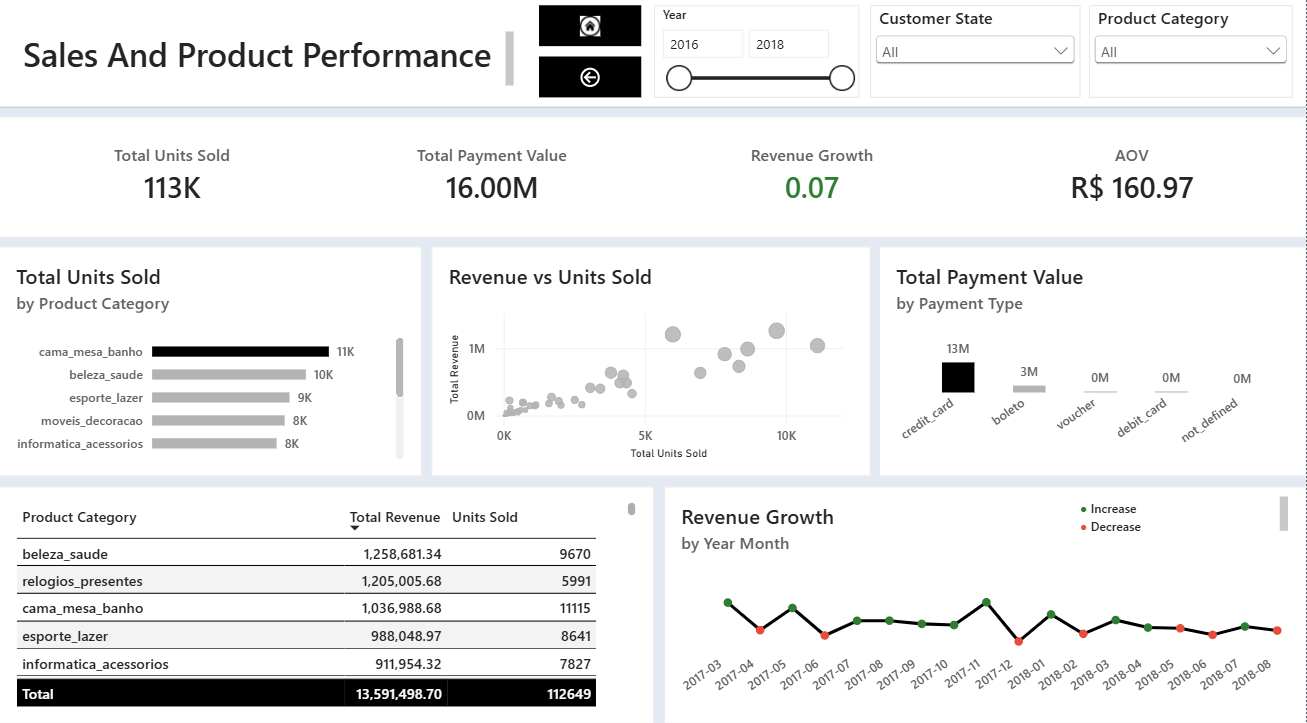

What the dashboard file says about the page in this screenshot:
{"tool":"powerbi","page":{"name":"Page 2","canvas":[1280,720],"ordinal":1},"visuals":[{"type":"shape","box":[0,0,1280.3,106.4],"z":0},{"type":"cardVisual","fields":{"Data":["KPIS.Total Units Sold","KPIS.Total Payment Value","KPIS.Revenue Growth","Metrics.Average Order Value"]},"box":[0,114.9,1280.3,118.6],"z":1000},{"type":"lineChart","fields":{"Category":["DimDate.Year Month.Variation.Hiérarchie de dates.Année"],"Y":["KPIS.Revenue Growth"]},"box":[650.5,476.9,629.8,232.3],"z":2000},{"type":"clusteredBarChart","title":"Total Units Sold ","fields":{"Category":["DimProduct.product_category_name"],"Y":["KPIS.Total Units Sold"]},"box":[0,242.1,413.3,225],"z":3000},{"type":"columnChart","title":"Total Payment Value","fields":{"Y":["KPIS.Total Payment Value"],"Category":["FactOrders.payment_type"]},"box":[860.9,242.1,419.4,225],"z":4000},{"type":"scatterChart","title":"Revenue vs Units Sold","fields":{"Y":["KPIS.Total Revenue"],"X":["KPIS.Total Units Sold"],"Size":["KPIS.Total Revenue"],"Series":["DimProduct.product_category_name"],"Category":["DimProduct.product_category_name"]},"box":[423.1,242.1,429.2,225],"z":5000},{"type":"slicer","fields":{"Values":["DimDate.Year"]},"box":[640.8,6.1,200.5,90.5],"z":6000},{"type":"slicer","fields":{"Values":["DimCustomer.customer_state"]},"box":[852.3,6.1,205.4,90.5],"z":7000},{"type":"slicer","title":"Category  Name","fields":{"Values":["DimProduct.product_category_name"]},"box":[1066.3,6.1,199.3,90.5],"z":8000},{"type":"textbox","box":[14.7,31.8,489.1,64.8],"z":9000},{"type":"tableEx","fields":{"Values":["DimProduct.product_category_name","KPIS.Total Revenue","KPIS.Total Units Sold"]},"box":[0,476.9,640.8,232.3],"z":10000},{"type":"textbox","box":[1057.2,487,203.3,43.6],"z":11000},{"type":"actionButton","box":[528.3,56.3,100.3,40.4],"z":12000},{"type":"actionButton","box":[528.3,6.1,100,40],"z":13000}]}

Visuals, with their boxes in screenshot pixels (x1, y1, x2, y2), scaled from the page's 1280x720 canvas onto the 1307x723 screenshot:
shape: (0, 0, 1306, 107)
cardVisual - KPIS.Total Units Sold x KPIS.Total Payment Value: (0, 115, 1306, 234)
lineChart - DimDate.Year Month.Variation.Hiérarchie de dates.Année x KPIS.Revenue Growth: (664, 479, 1306, 712)
"Total Units Sold " clusteredBarChart: (0, 243, 422, 469)
"Total Payment Value" columnChart: (879, 243, 1306, 469)
"Revenue vs Units Sold" scatterChart: (432, 243, 870, 469)
slicer - DimDate.Year: (654, 6, 859, 97)
slicer - DimCustomer.customer_state: (870, 6, 1080, 97)
"Category  Name" slicer: (1089, 6, 1292, 97)
textbox: (15, 32, 514, 97)
tableEx - DimProduct.product_category_name x KPIS.Total Revenue: (0, 479, 654, 712)
textbox: (1080, 489, 1287, 533)
actionButton: (539, 57, 642, 97)
actionButton: (539, 6, 642, 46)
